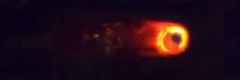keyhole: (169, 31, 184, 47)
